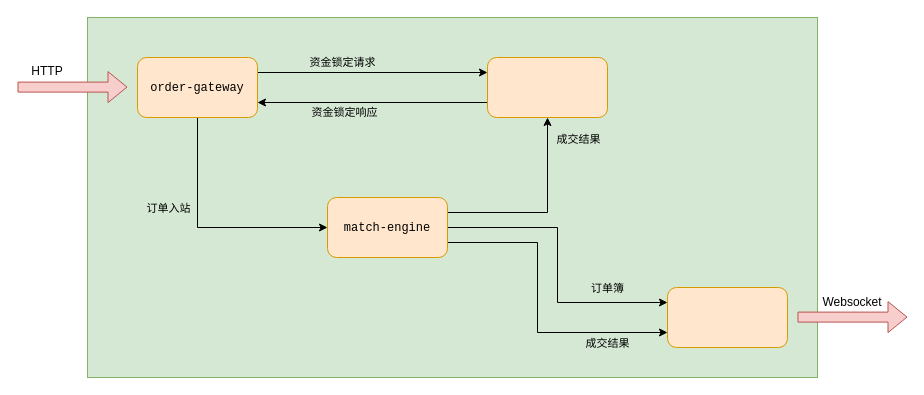
The diagram is 924 pixels wide and 395 high, and some of its shapes have lost their labels. Each missing label, with the centre of its shape:
"account-service" belongs at point (547, 87).
"market-service" belongs at point (727, 317).
